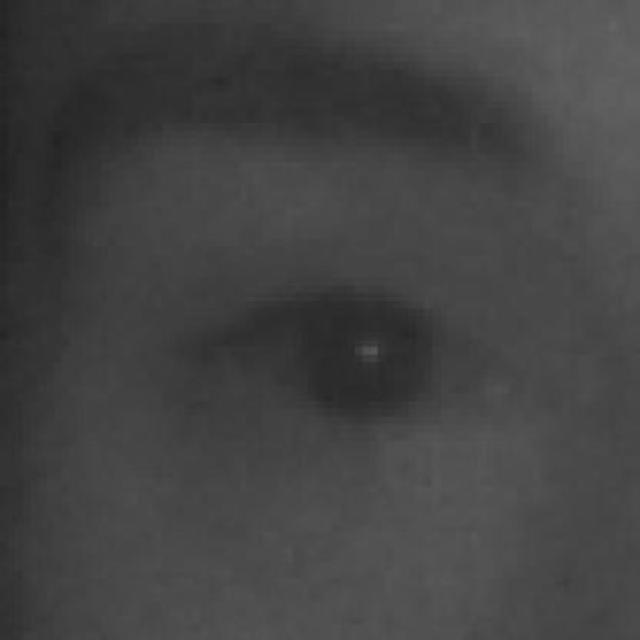awake: (185, 282, 530, 436)
